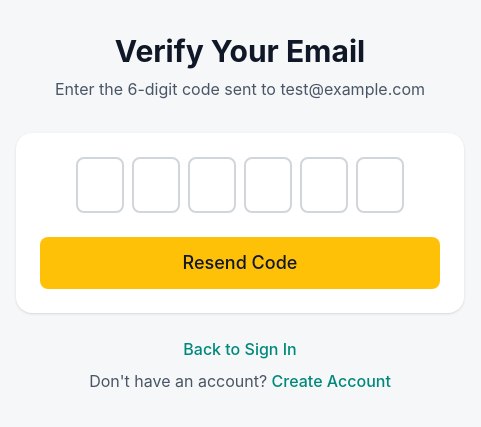
it: VerifyEmail › Error Message Display › displays error when resend fails
Click the button "Resend Code" at (240, 263), box [40,237,440,289]
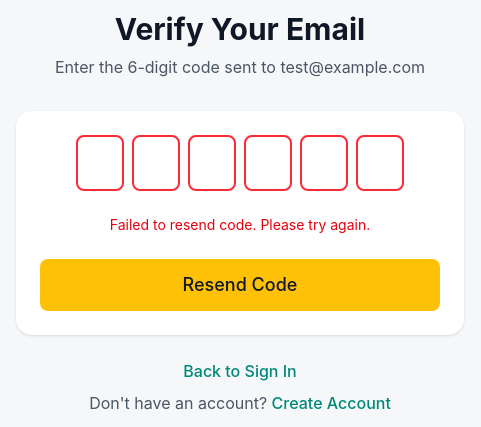
Result: the text "Failed to resend code. Please try again." is shown at [110,216,370,233]
